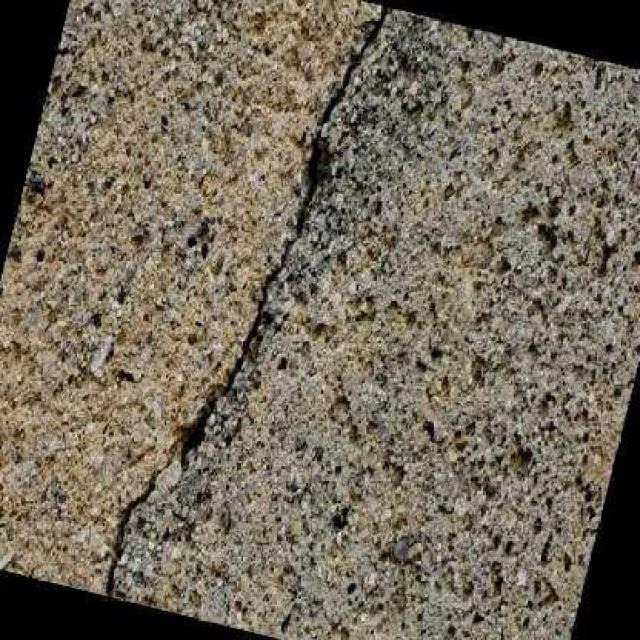D00: (104, 5, 390, 598)
